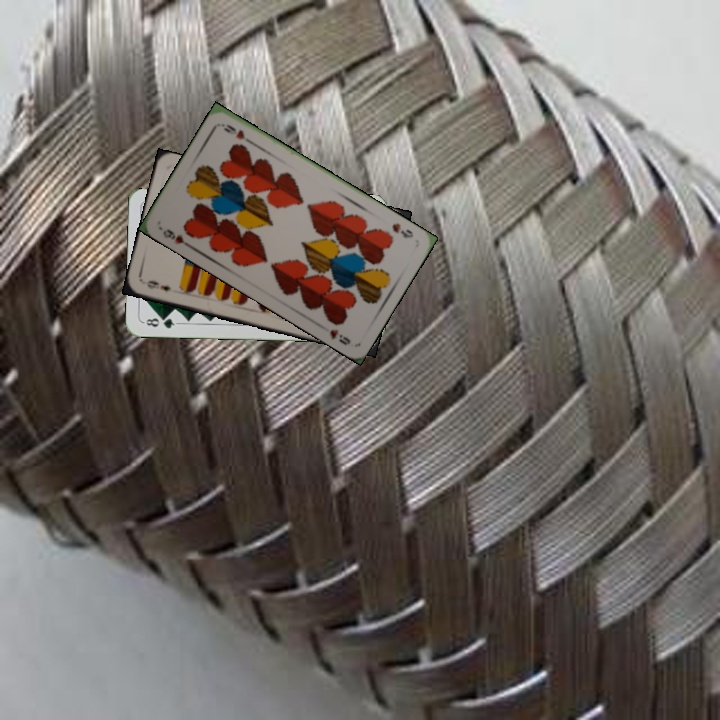E9: (142, 276, 173, 294)
G8: (140, 313, 180, 331)
H9: (156, 223, 193, 250), (388, 219, 416, 241)
